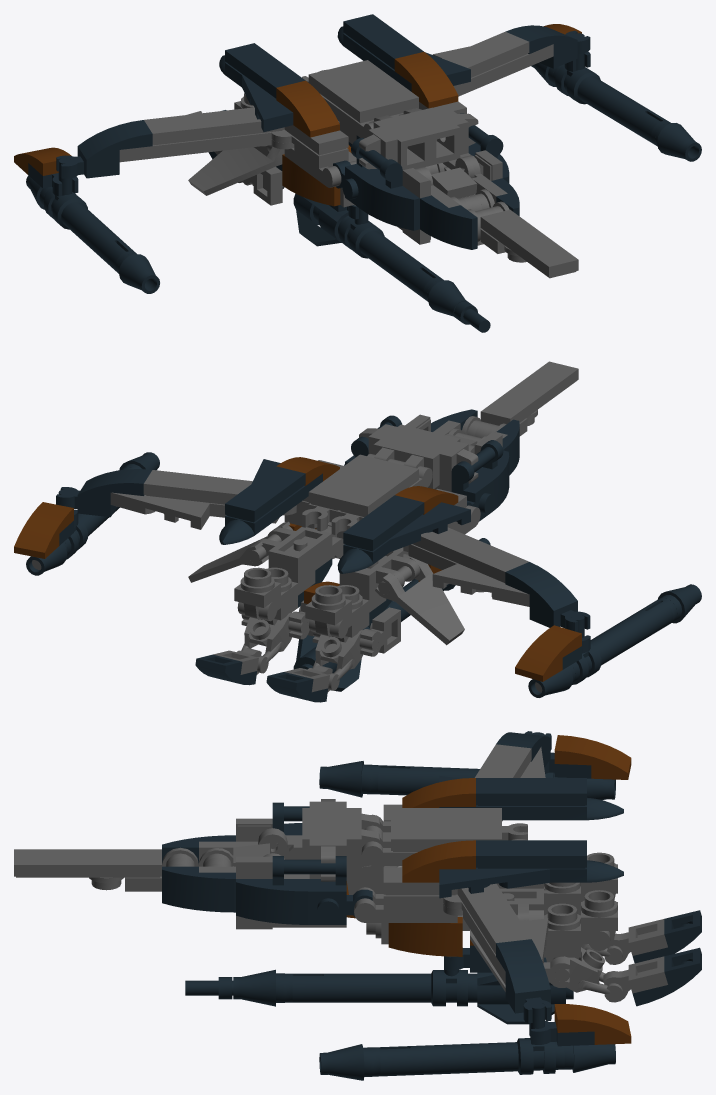
The model's file is msv-51-albatros.dae.
The picture shows the model from 3 angles, top to bottom: view 1: azimuth 30°, elevation 25°; view 2: azimuth 150°, elevation 25°; view 3: azimuth 270°, elevation 25°; orthographic projection. The views are drawn at different scales.
Bounding box in the file's own units: 382 × 372 × 118.
